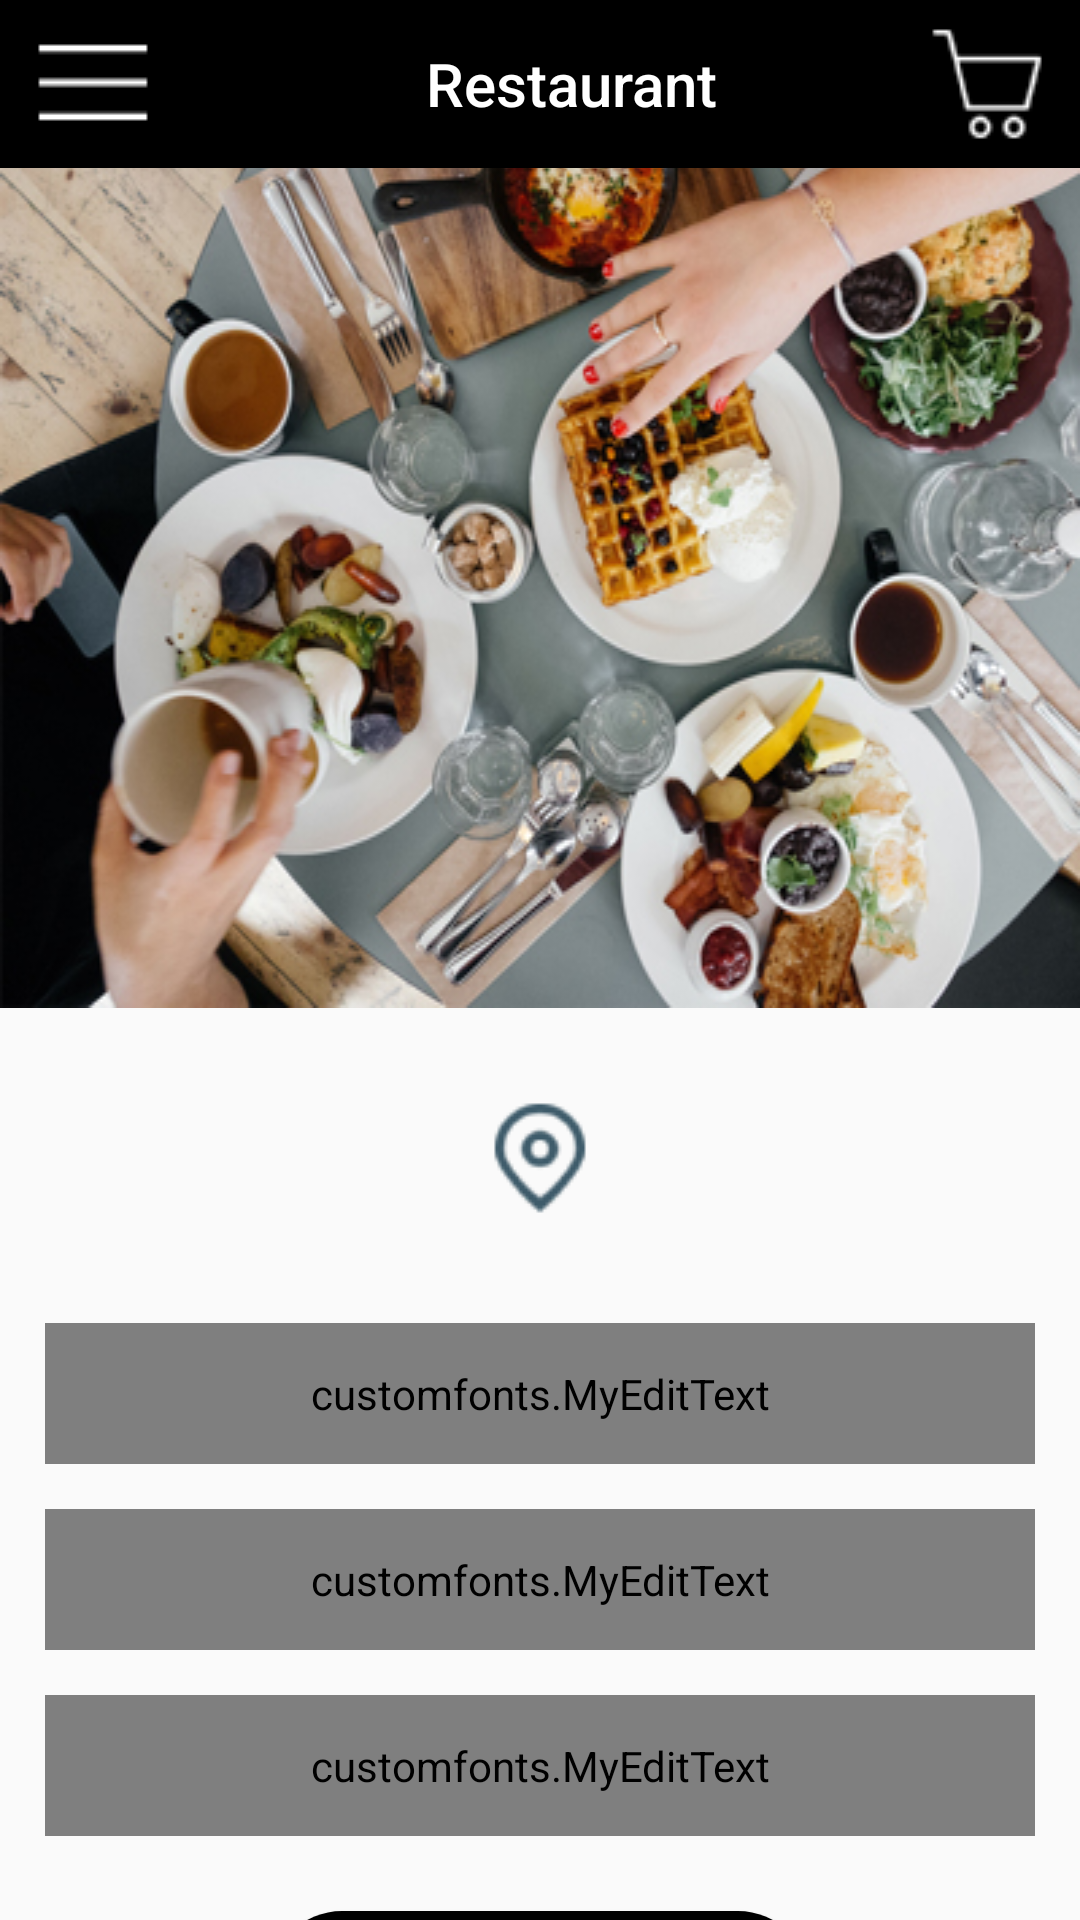

Locate icon controls on the screen. Image size 1080x1920, boxes as {"left": x1, "top": y1, "right": x2, "bottom": y2}.
commerce: {"left": 932, "top": 29, "right": 1042, "bottom": 139}
map: {"left": 494, "top": 1103, "right": 586, "bottom": 1213}
